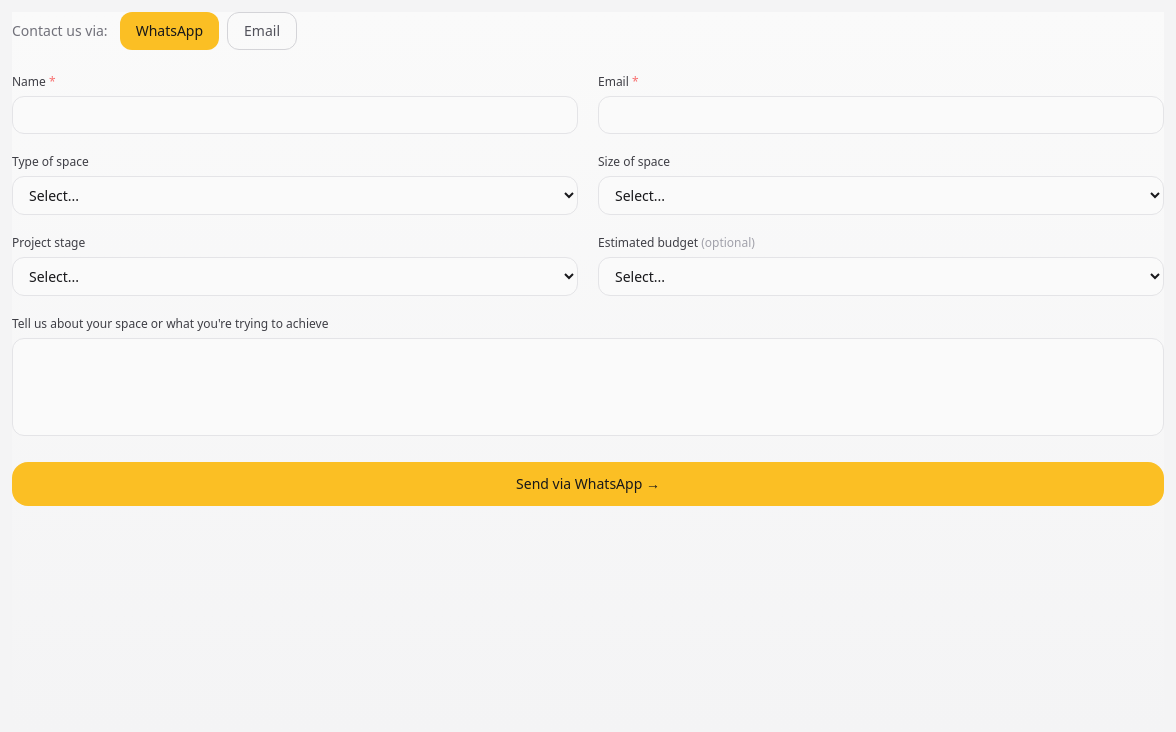
Test case: ContactForm › Email path › does not show Send via WhatsApp button in email mode
Click the button "Email".
click(262, 31)  # box x1=227 y1=12 x2=297 y2=50
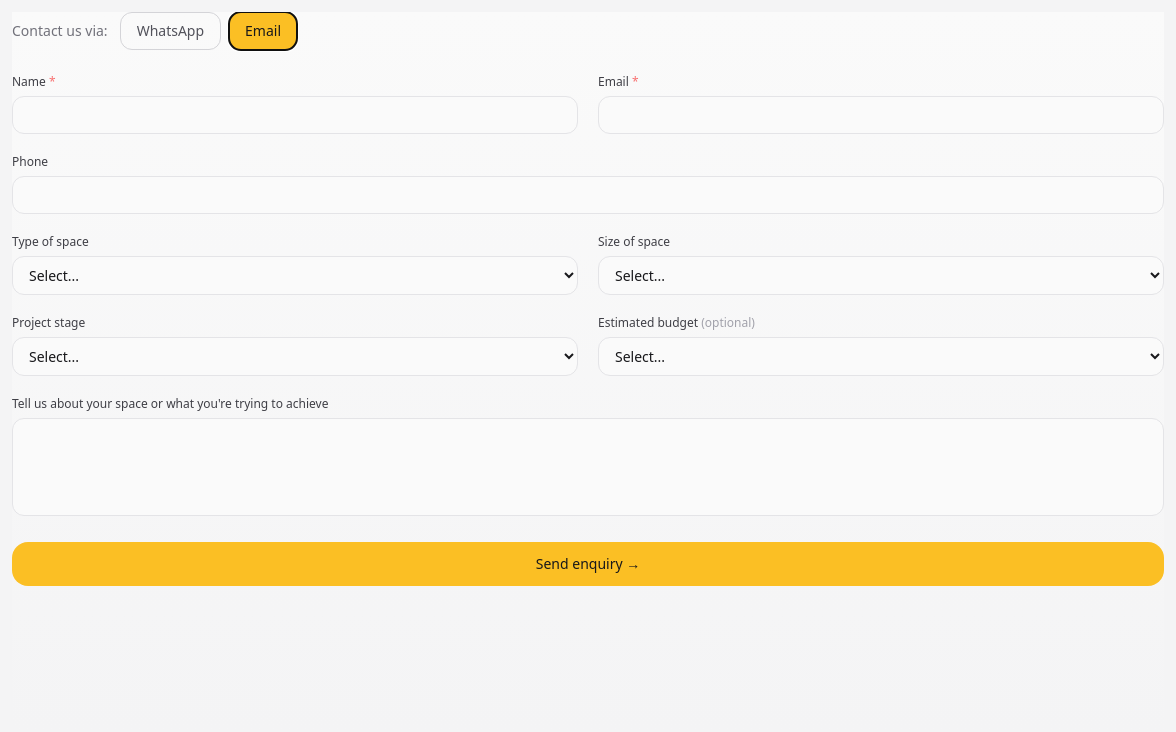
Expected: the button "Send via WhatsApp" is gone
